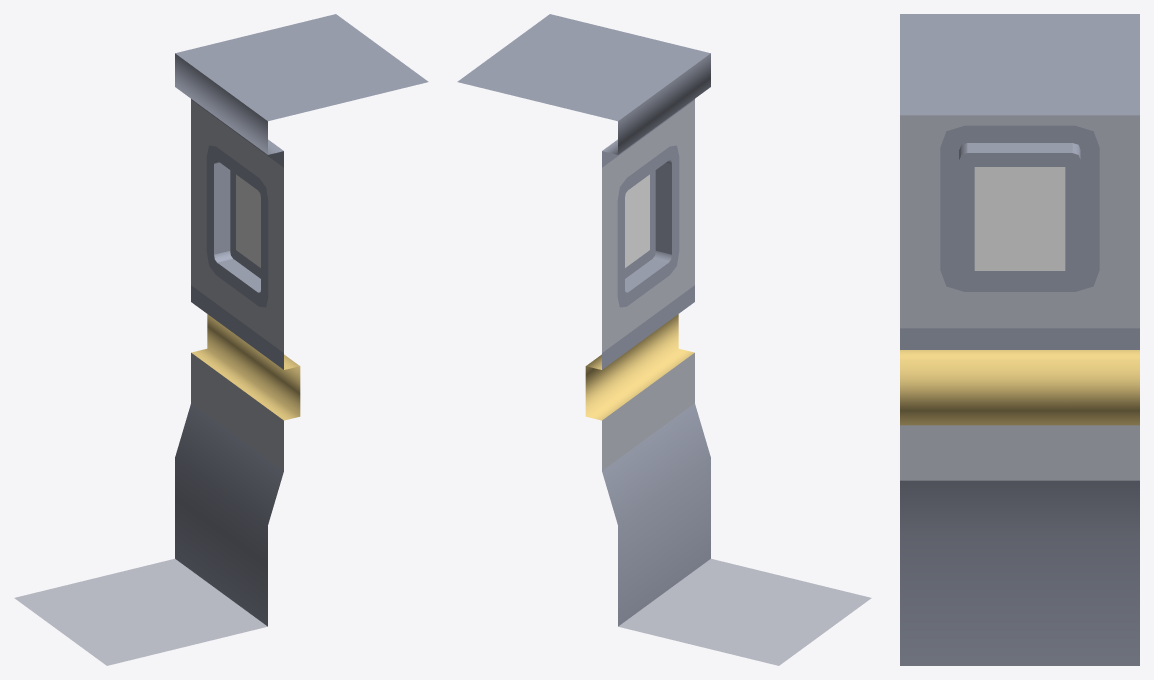
The model's file is structure-window.fbx.
3 renders of one model, left to right at view 1: azimuth 30°, elevation 25°; view 2: azimuth 150°, elevation 25°; view 3: azimuth 270°, elevation 25°, orthographic. The views are drawn at different scales.
Parts seen in each view (by area): view 1: structure-window; view 2: structure-window; view 3: structure-window.
Boxes of the visible parts, <box> form: structure-window: <box>14,14,428,665</box>; structure-window: <box>457,14,871,665</box>; structure-window: <box>900,14,1139,665</box>.
Size of the model in its own units: 200 by 300 by 100.
